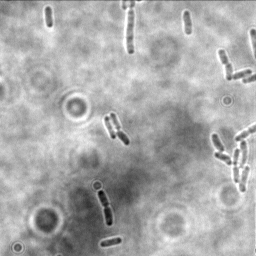Dividing: (109, 111, 131, 147), (97, 189, 114, 228), (217, 48, 235, 82)
Microcolony: (209, 123, 255, 193)
Rod: (125, 7, 137, 56), (102, 115, 118, 140), (98, 236, 124, 249), (182, 9, 194, 36), (230, 67, 252, 81), (43, 5, 55, 28)
